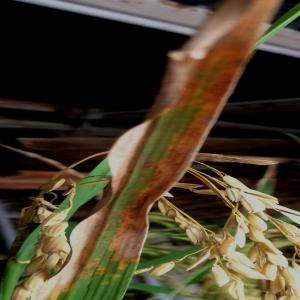2 BacterialBlight: (90, 103, 180, 300)
